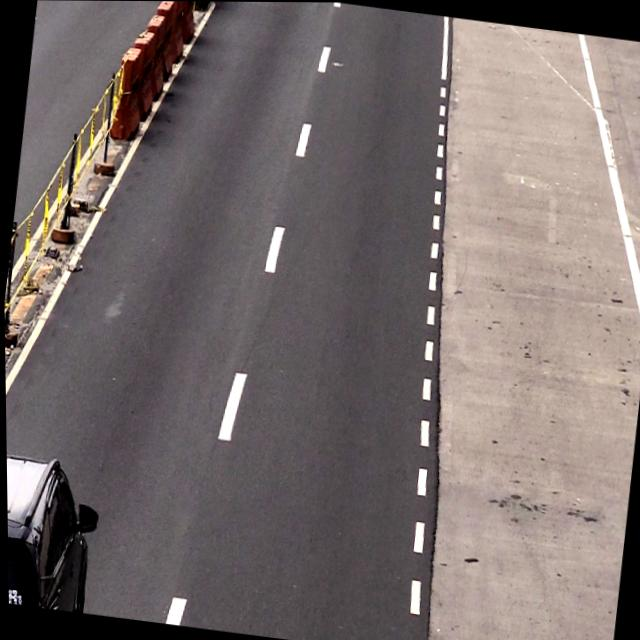Car: (5, 452, 97, 613)
